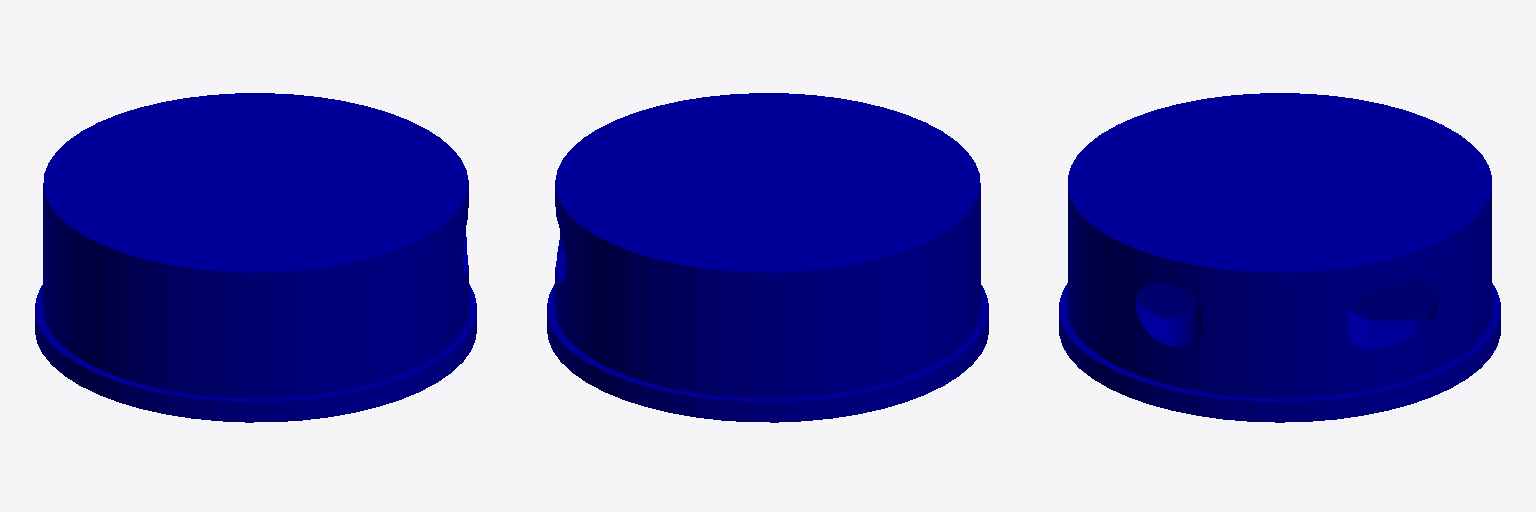
Rendered from mushr_nano_lidar_top.obj.
3 renders of one model, left to right at view 1: azimuth 30°, elevation 25°; view 2: azimuth 150°, elevation 25°; view 3: azimuth 270°, elevation 25°, orthographic.
Visible parts, largest first — view 1: Racecar_Ydlidar_Top; view 2: Racecar_Ydlidar_Top; view 3: Racecar_Ydlidar_Top.
Part boxes in pixels (x1,y1,x2,y2): Racecar_Ydlidar_Top: (35, 93, 476, 422); Racecar_Ydlidar_Top: (547, 93, 988, 422); Racecar_Ydlidar_Top: (1059, 93, 1500, 422).
Size of the model in its own units: 0.6863 by 0.2503 by 0.6849.